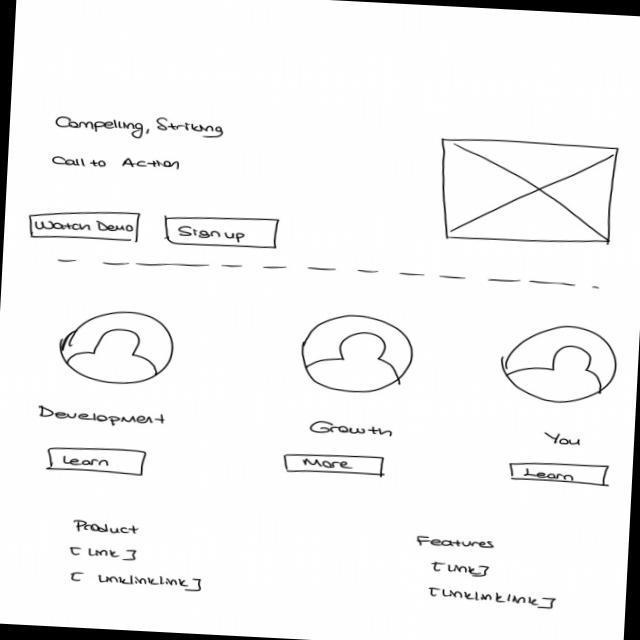button: (162, 212, 282, 253), (28, 206, 144, 245), (45, 445, 150, 478), (507, 460, 613, 489), (282, 452, 386, 480)
image: (436, 136, 622, 251), (498, 321, 622, 409), (300, 312, 418, 398), (57, 308, 179, 389)
label: (55, 113, 226, 145), (38, 406, 169, 432), (52, 154, 183, 174), (308, 419, 397, 442), (416, 535, 499, 553), (74, 519, 143, 540), (543, 432, 586, 450)
link: (70, 570, 205, 595), (428, 588, 558, 612), (69, 547, 141, 564), (430, 561, 493, 580)
